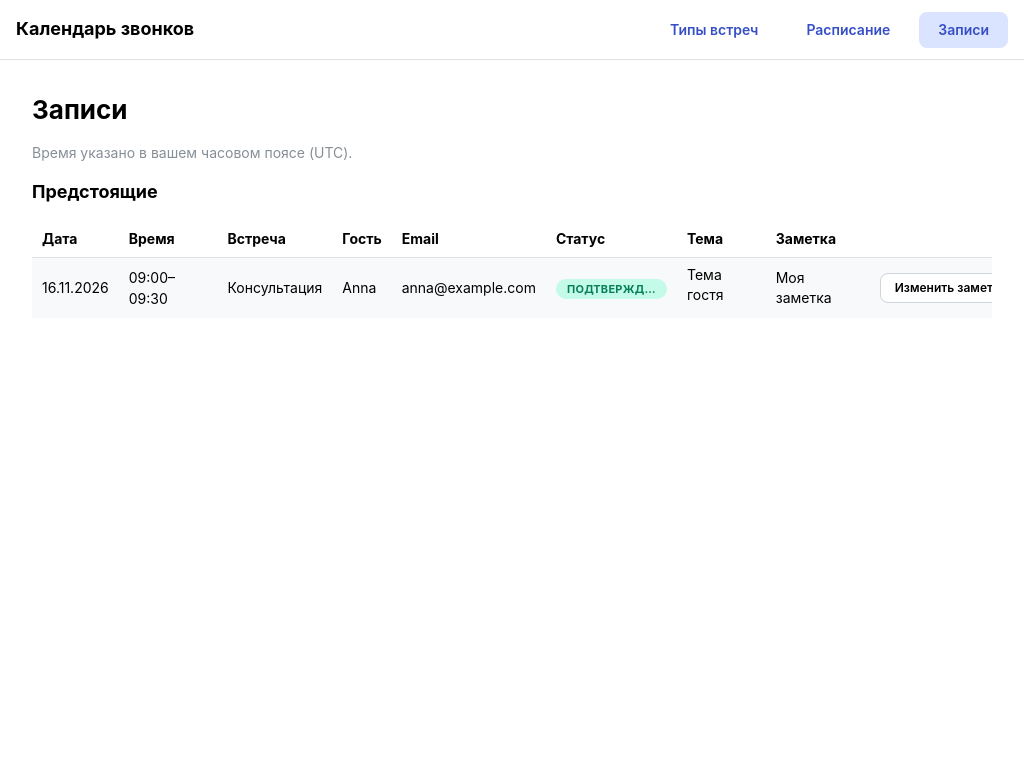
Scenario: BookingsPage › guest topic › does not show the topic in the note modal
Click the button with aria-label "Изменить заметку: Anna, 16.11.2026 09:00". click: click(951, 288)
box: [880,273,1022,303]
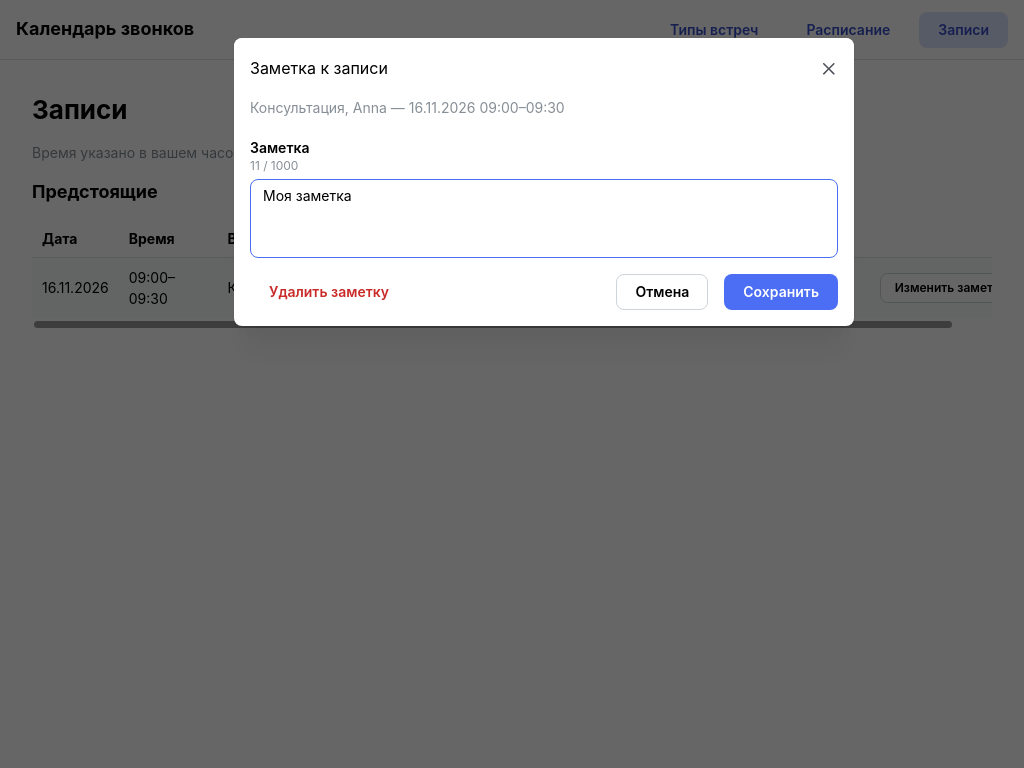
Expected: the text box labelled "Заметка" holds "Моя заметка", [250,179,838,258]
